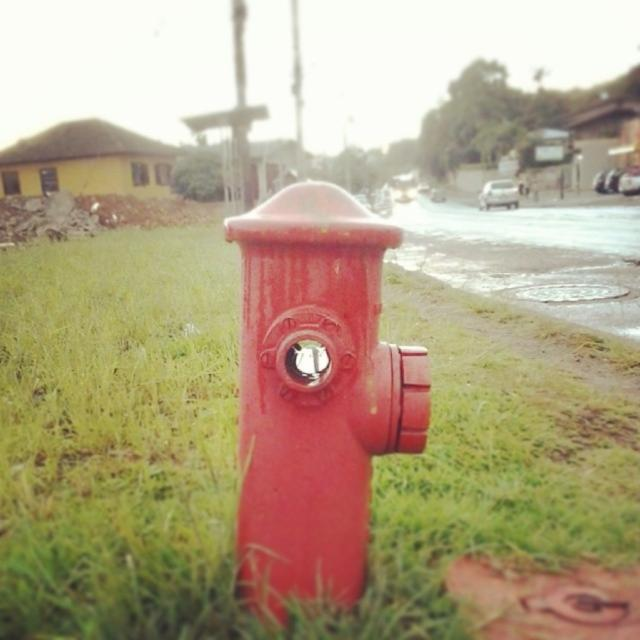fire_hydrant: (224, 182, 428, 622)
